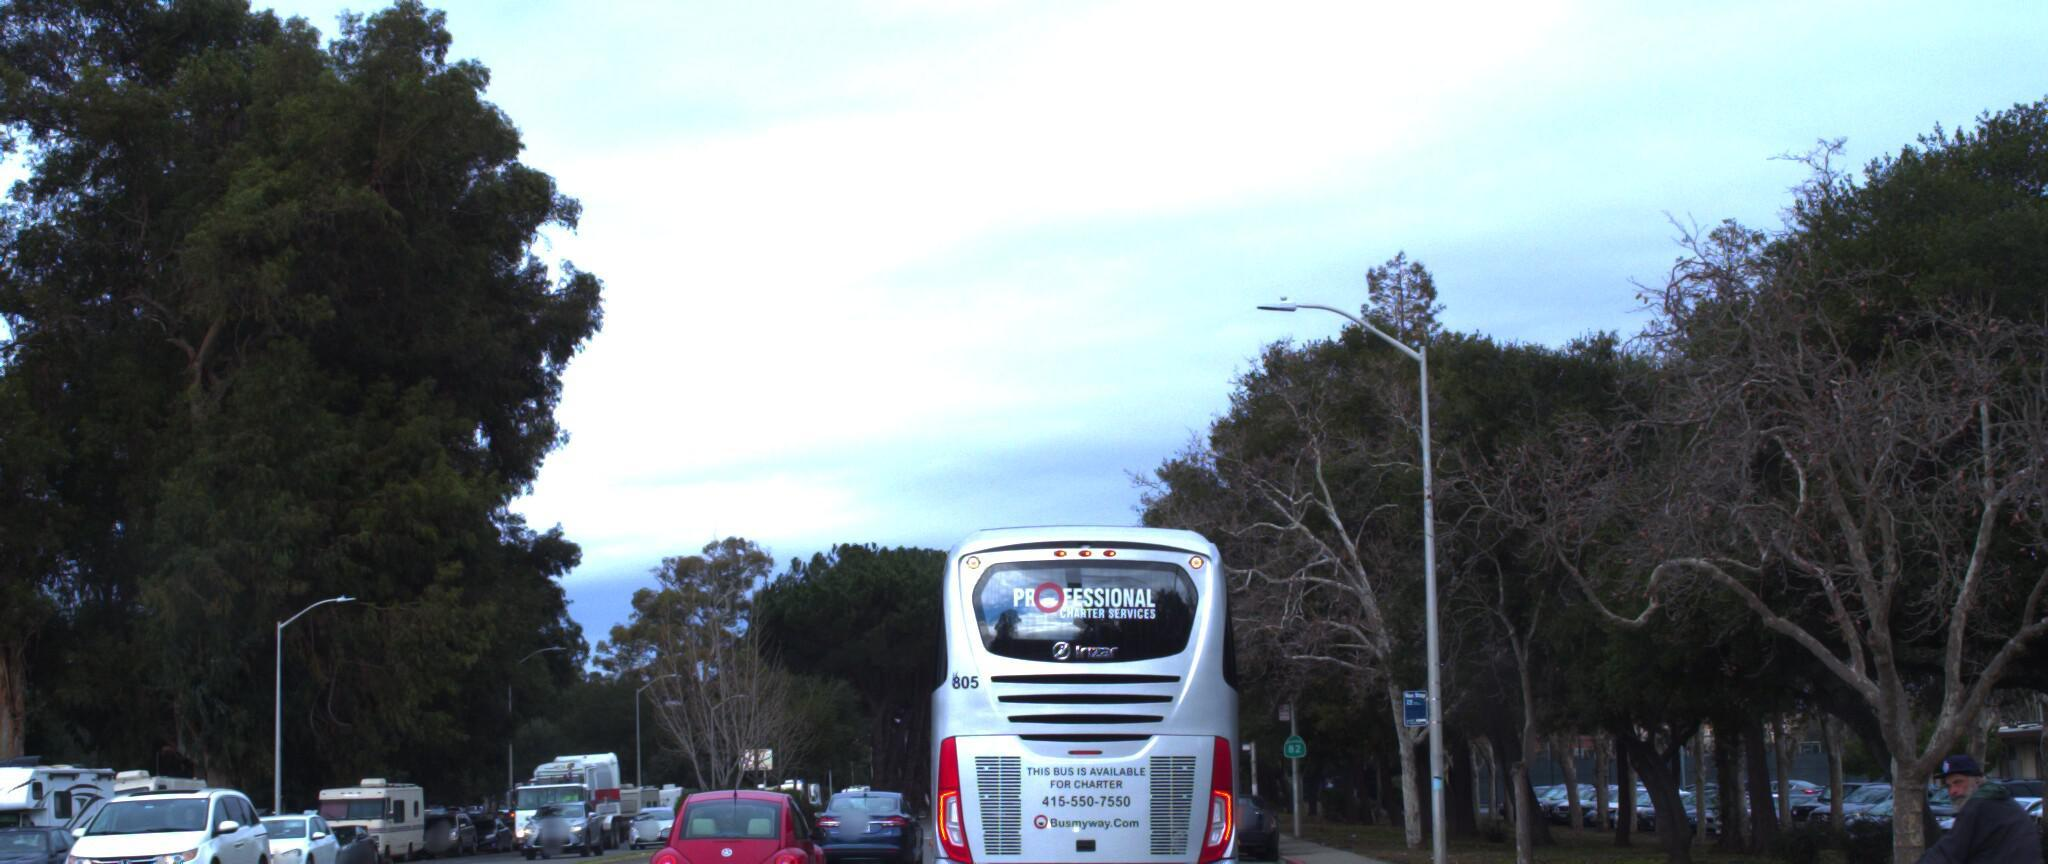bicycle: (1768, 719, 2048, 864)
bus: (906, 502, 1292, 864)
car: (46, 769, 295, 864), (639, 777, 841, 864), (810, 774, 927, 863), (216, 794, 353, 864), (1176, 770, 1276, 848), (0, 764, 3, 864)
other_vehicle: (0, 733, 131, 864)
